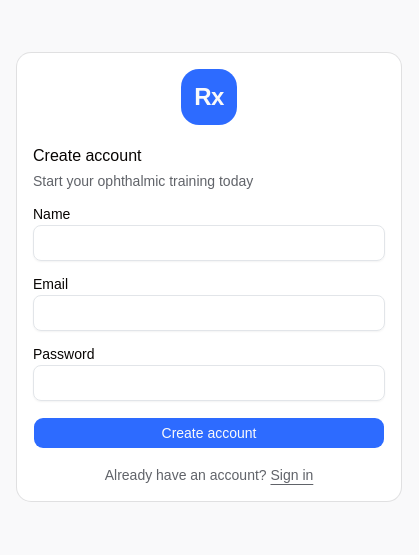
Test case: Register › shows validation error for name under 2 characters
In the field labelled "Name": (209, 243) [33,225,385,261], type "A"
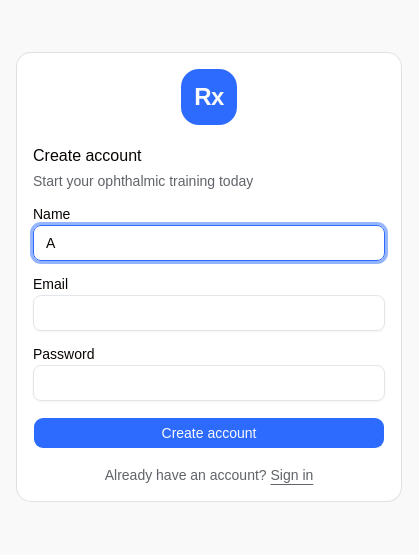
Click the button "Create account": (209, 433) [33,417,385,449]
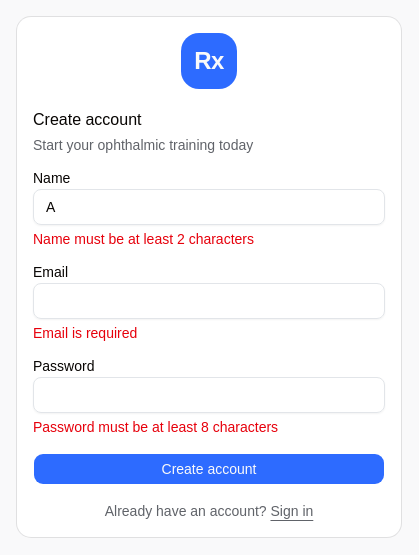
Result: the text "Name must be at least 2 characters" is shown at [33,231,254,247]
